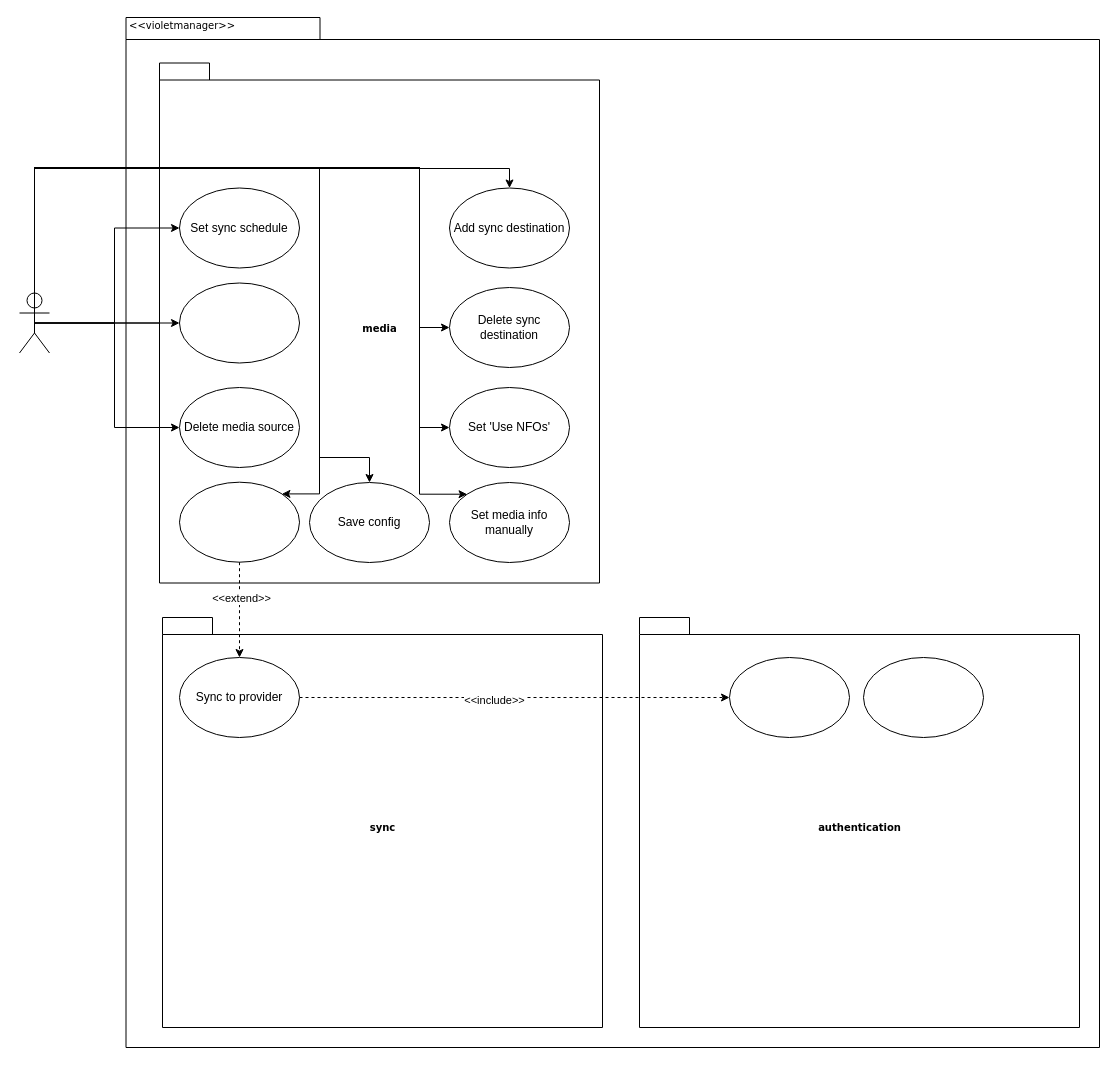
Some shapes in this 1117 by 1065 pixel diagram are drawn without their labels. The centre of each missing label's shape, as x and y in pixels:
"Add media source" belongs at point 239,322.
"Admin" belongs at point 34,322.
"Login" belongs at point 789,697.
"Logout" belongs at point 923,697.
"Read config" belongs at point 239,521.
